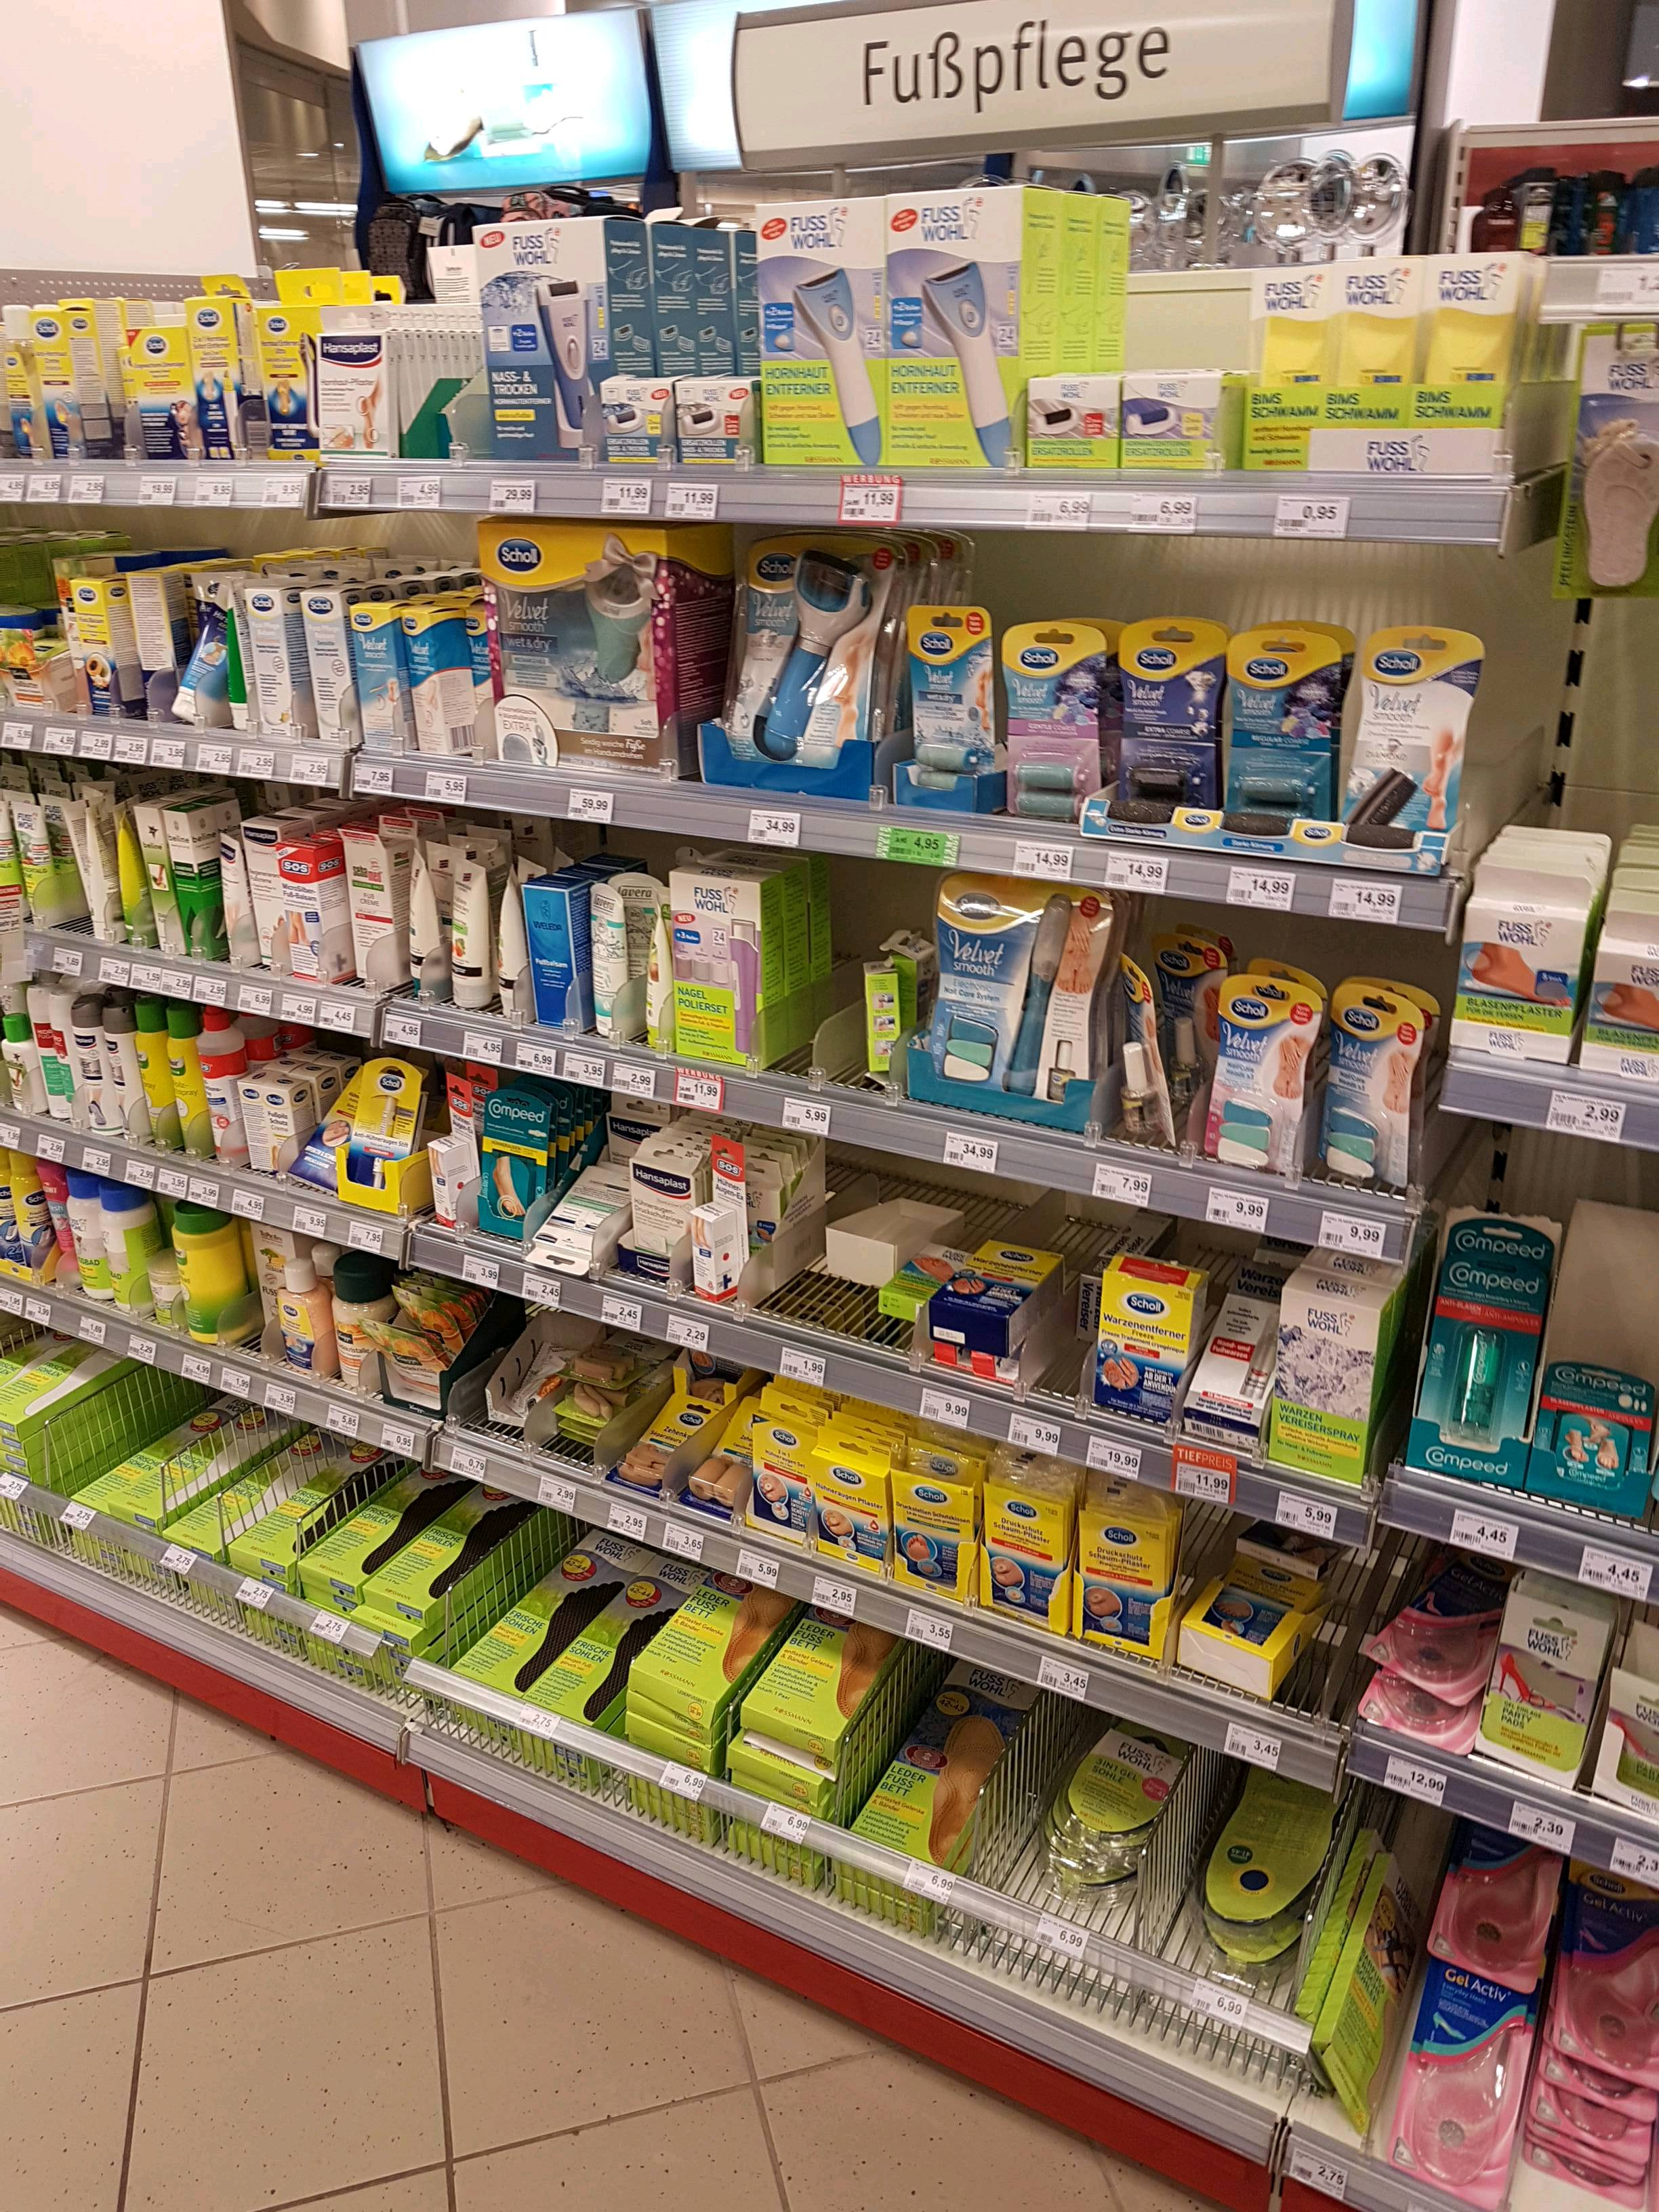product: (483, 528, 660, 761), (887, 190, 1021, 475), (938, 874, 1082, 1111), (737, 535, 873, 772), (758, 200, 882, 458), (474, 219, 599, 455), (1554, 329, 1659, 592), (1453, 866, 1577, 1069), (1000, 624, 1112, 841), (1431, 1223, 1525, 1479), (1225, 629, 1335, 841), (1363, 634, 1462, 867), (1117, 622, 1220, 838), (1274, 1278, 1368, 1484), (1326, 988, 1420, 1184), (1419, 251, 1502, 472), (1572, 1883, 1659, 2094), (1493, 1587, 1589, 1777), (908, 601, 995, 808), (1415, 1973, 1502, 2175), (1209, 982, 1300, 1174), (671, 864, 753, 1069), (1328, 256, 1405, 469), (899, 1710, 997, 1869), (1539, 1350, 1638, 1503), (1253, 263, 1324, 455), (1079, 1515, 1178, 1653), (1107, 1275, 1188, 1426), (1328, 1862, 1387, 2067), (1450, 1829, 1539, 1965), (1114, 963, 1180, 1141), (1075, 1742, 1183, 1843), (1232, 1768, 1312, 1900), (1401, 1568, 1483, 1696), (683, 1580, 769, 1691), (788, 1611, 864, 1733), (981, 1484, 1053, 1615), (1122, 376, 1218, 470), (312, 329, 383, 455), (1204, 1291, 1263, 1439), (1215, 1561, 1291, 1667), (122, 324, 185, 453), (183, 1207, 237, 1353), (186, 301, 235, 460), (253, 305, 307, 448), (488, 1099, 544, 1237), (899, 1470, 964, 1588), (1026, 378, 1114, 465), (472, 1580, 544, 1683), (530, 885, 580, 1028), (812, 1444, 868, 1573), (251, 587, 298, 735), (352, 603, 401, 744), (404, 603, 450, 752), (303, 587, 349, 735), (556, 1174, 624, 1268), (357, 1078, 410, 1200), (634, 1151, 685, 1273), (345, 827, 387, 974), (167, 806, 206, 963), (399, 846, 443, 984), (98, 1186, 145, 1312), (429, 1108, 477, 1224), (676, 380, 744, 463), (749, 1421, 800, 1533), (131, 566, 167, 714), (284, 857, 328, 981), (78, 575, 117, 712), (31, 305, 66, 455), (584, 885, 620, 1026), (178, 622, 228, 723), (450, 867, 484, 1010), (967, 1256, 1040, 1324), (282, 1264, 329, 1369), (331, 1270, 375, 1381), (70, 315, 101, 467), (204, 1019, 235, 1170), (247, 817, 281, 960), (75, 998, 110, 1132), (605, 387, 666, 460), (143, 998, 171, 1157), (495, 880, 526, 1019), (559, 1648, 619, 1721), (171, 1001, 199, 1155), (629, 1406, 687, 1479), (0, 634, 52, 712), (110, 1000, 138, 1141), (80, 810, 110, 941), (641, 911, 669, 1047), (68, 1170, 96, 1305), (694, 1212, 732, 1305), (695, 1444, 744, 1512), (10, 1153, 40, 1264), (383, 1322, 436, 1385), (220, 831, 244, 965), (16, 801, 42, 923), (864, 961, 892, 1075), (0, 1008, 28, 1118), (115, 813, 139, 939), (319, 1097, 350, 1193), (514, 1339, 551, 1409), (31, 988, 51, 1120), (228, 596, 247, 726), (568, 1343, 629, 1383), (42, 1165, 64, 1271), (5, 350, 28, 456), (52, 989, 71, 1106), (305, 1477, 361, 1517), (885, 1256, 941, 1296), (425, 1529, 474, 1575), (146, 1261, 179, 1325), (267, 1089, 293, 1169), (242, 1470, 293, 1510), (115, 1428, 167, 1465), (173, 1454, 225, 1489), (368, 1501, 410, 1543), (246, 1082, 265, 1169)
